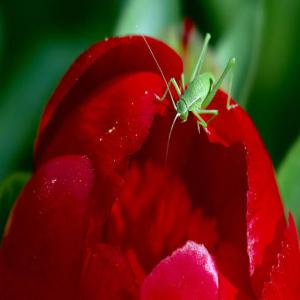locust: (148, 18, 256, 159)
